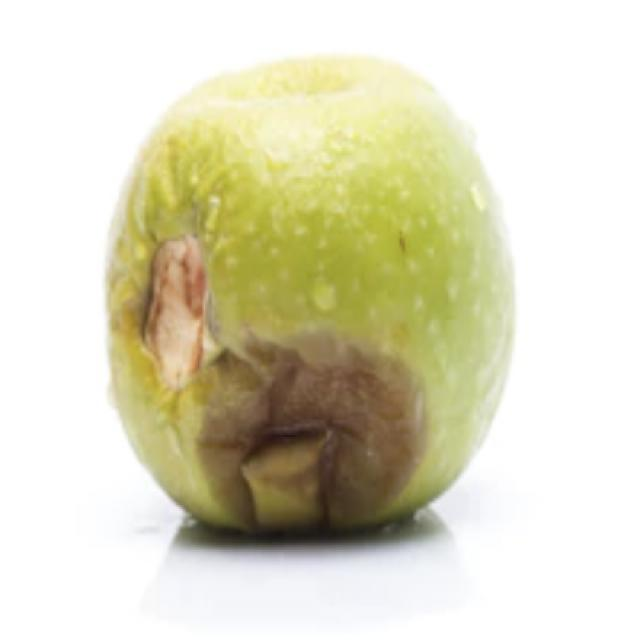Rotten: (127, 75, 508, 553)
